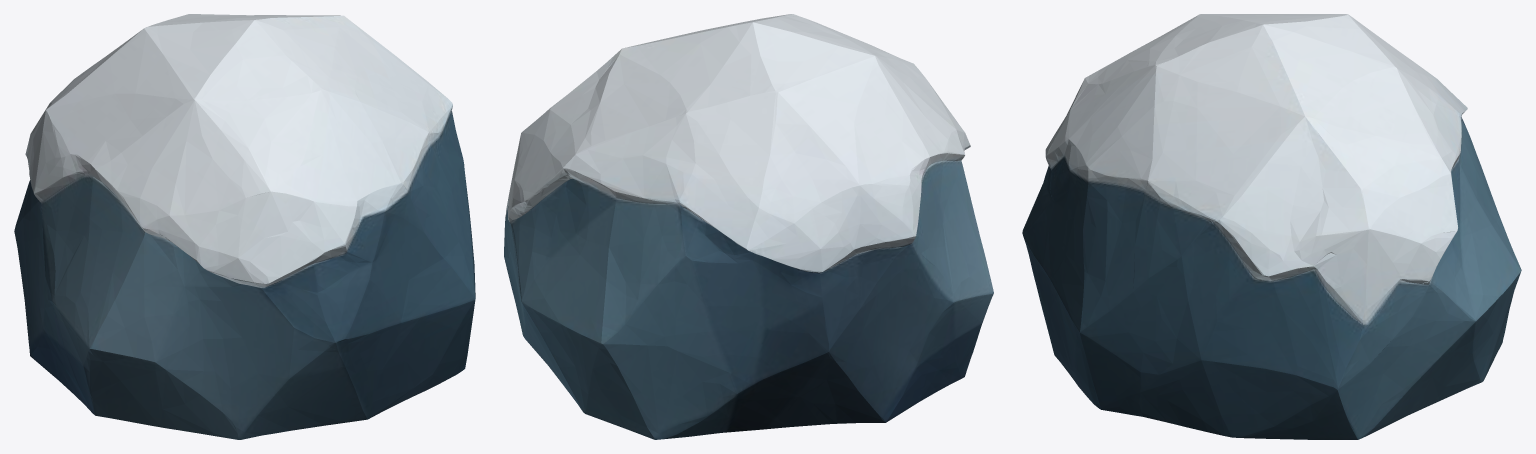
File: givre_rocher_enneige.glb
The picture shows the model from 3 angles, left to right: view 1: azimuth 30°, elevation 25°; view 2: azimuth 150°, elevation 25°; view 3: azimuth 270°, elevation 25°; orthographic projection.
Visible parts, largest first — view 1: geometry_0; view 2: geometry_0; view 3: geometry_0.
Boxes of the visible parts, x1,y1,x2,y2 form: geometry_0: (14, 14, 475, 439); geometry_0: (504, 14, 993, 439); geometry_0: (1022, 14, 1521, 439).
Bounding box in the file's own units: 0.9554 × 0.7264 × 0.99.
1 material, 1 textured.
